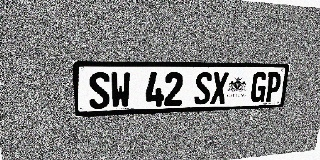2: (164, 72, 183, 106)
4: (145, 72, 165, 107)
G: (250, 72, 268, 103)
P: (264, 72, 282, 102)
S: (88, 72, 110, 109), (193, 72, 212, 105)
W: (110, 72, 130, 108)
X: (210, 72, 229, 104)
